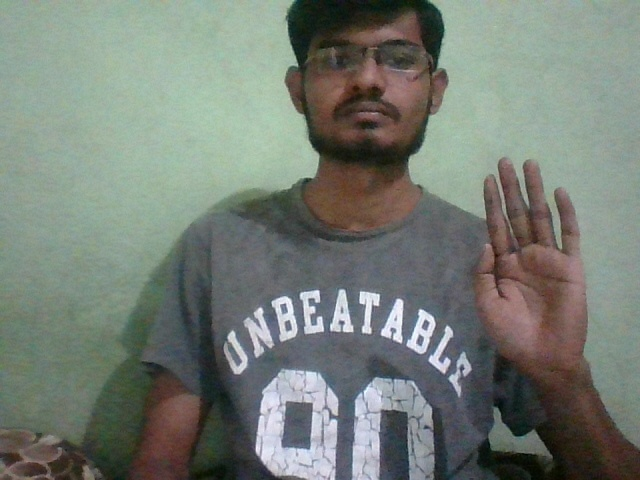goodby: (458, 146, 605, 379)
